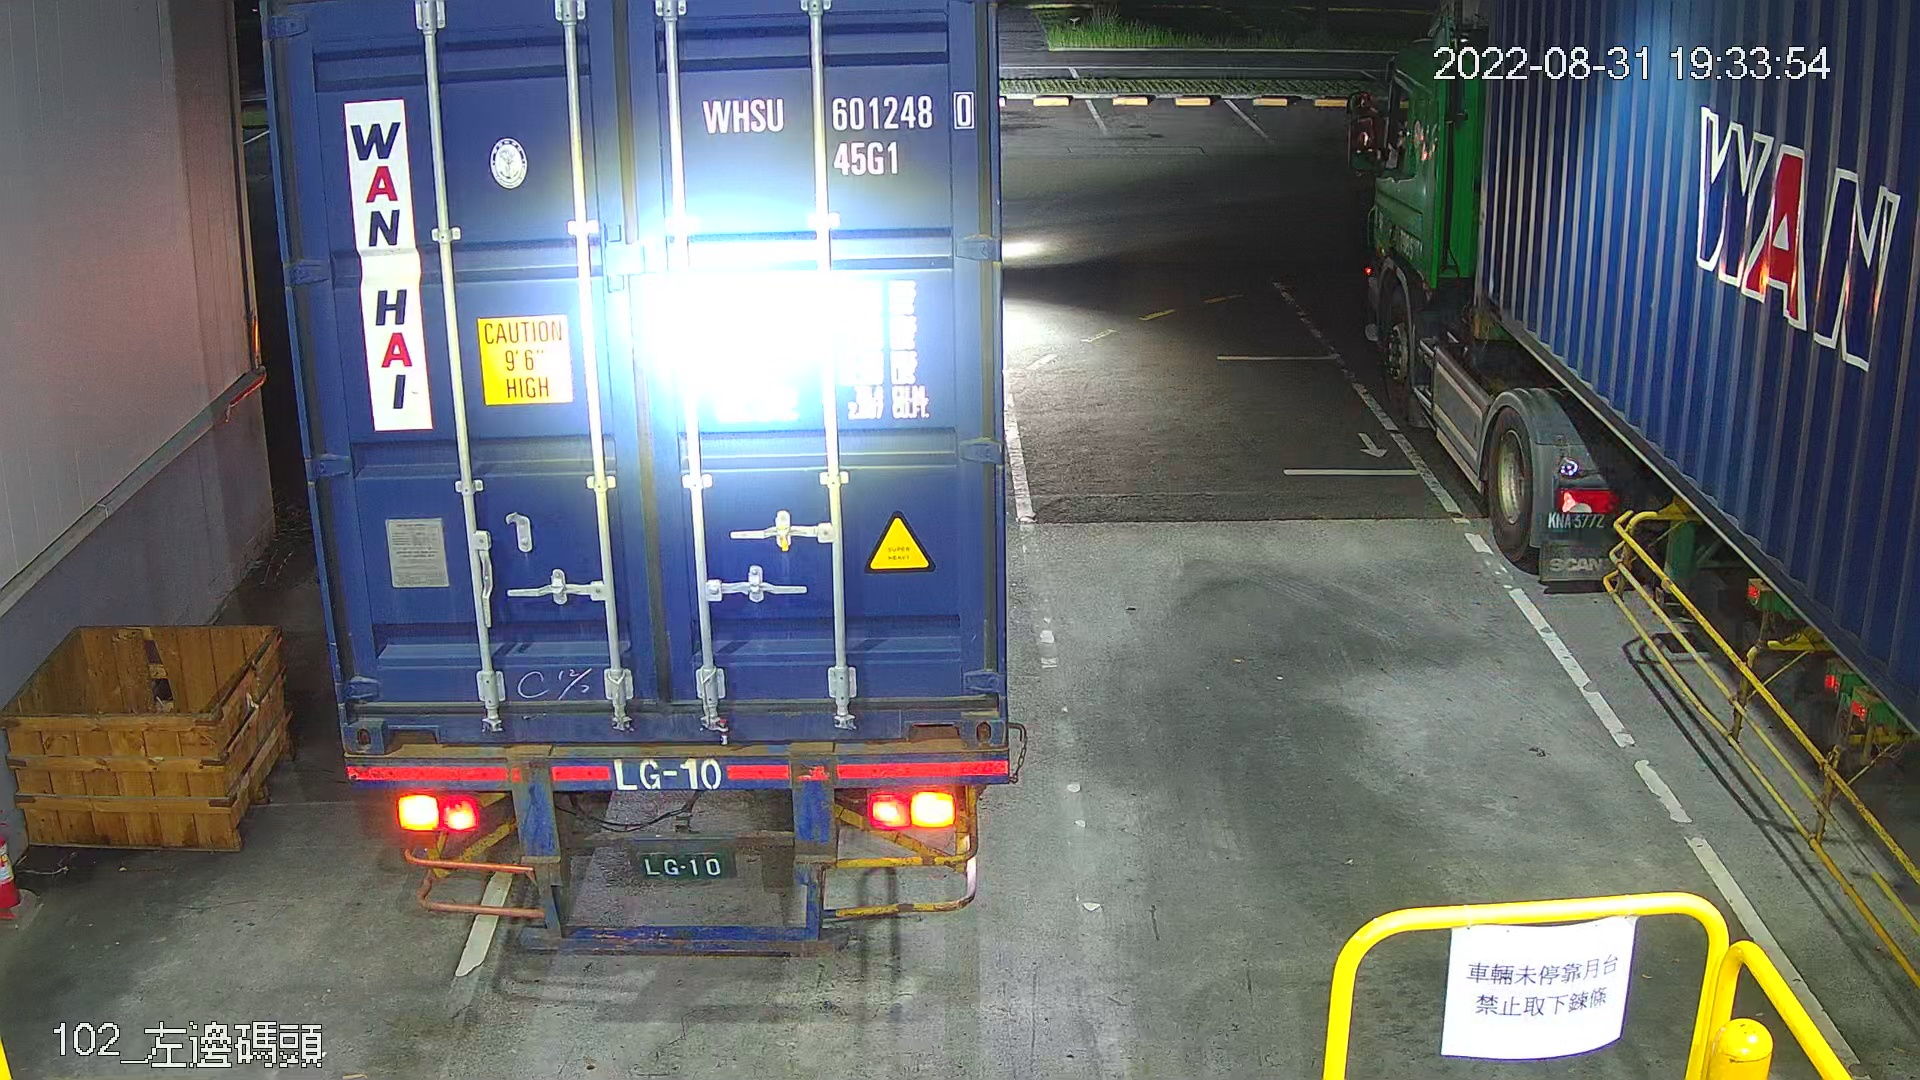container: (698, 83, 985, 185)
